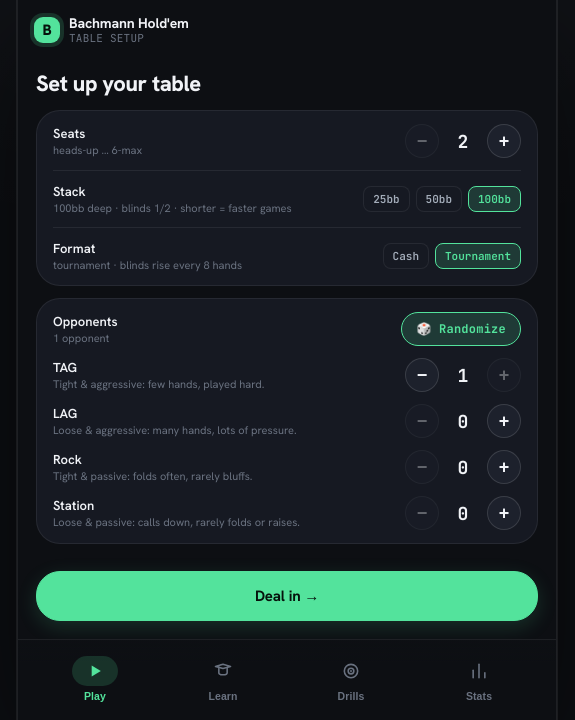
Scenario: App — top-level navigation › switches to Learn and shows the lesson list with every lesson
Step 1. Click the button with test id "tab-learn" → (223, 678), box 160,648 -> 286,708
(page scrolled)
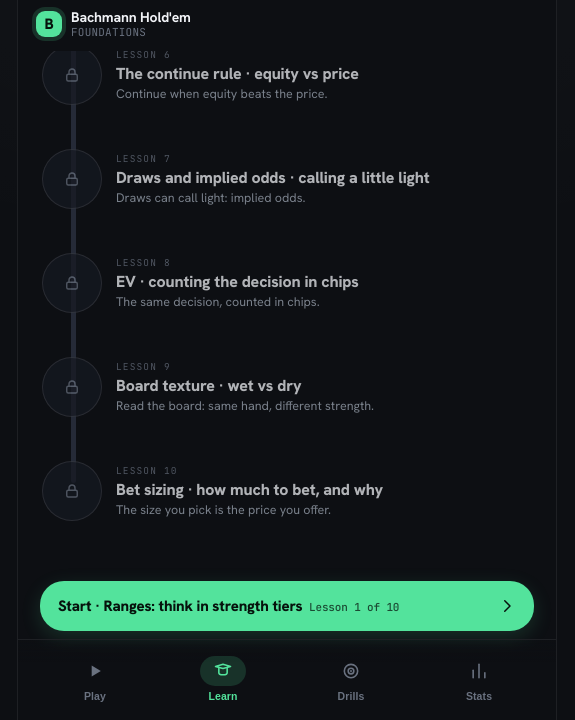
Check: the element with test id "learn" that starts with "Bachmann Hold'em" is shown
